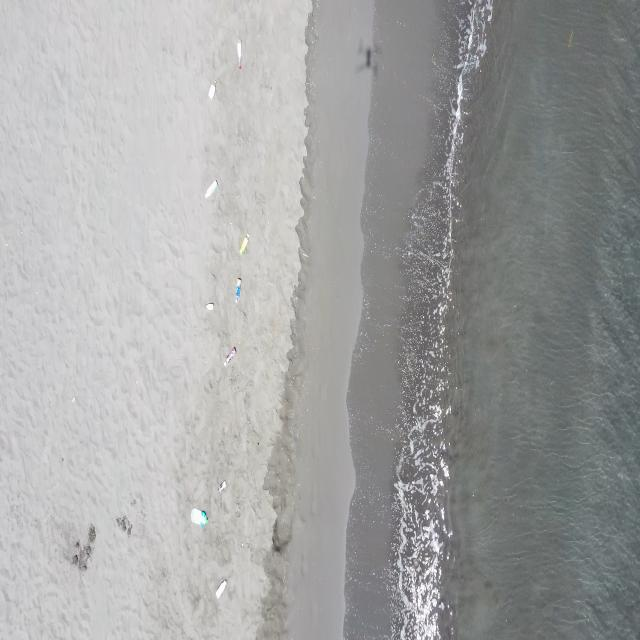plastic-bottle: (191, 508, 209, 528), (222, 346, 238, 368), (238, 230, 251, 256), (204, 178, 220, 198), (216, 578, 228, 600), (208, 77, 218, 102), (236, 38, 243, 72), (234, 277, 242, 301), (218, 481, 228, 494), (204, 302, 215, 312)
